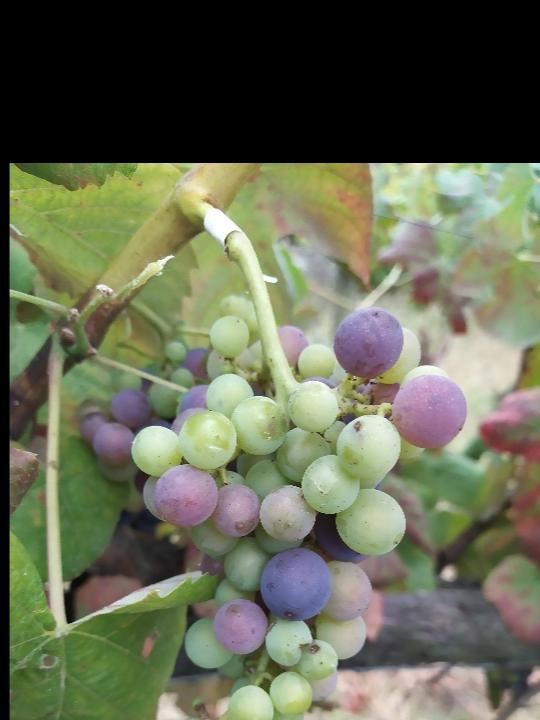grape: (128, 305, 471, 720)
